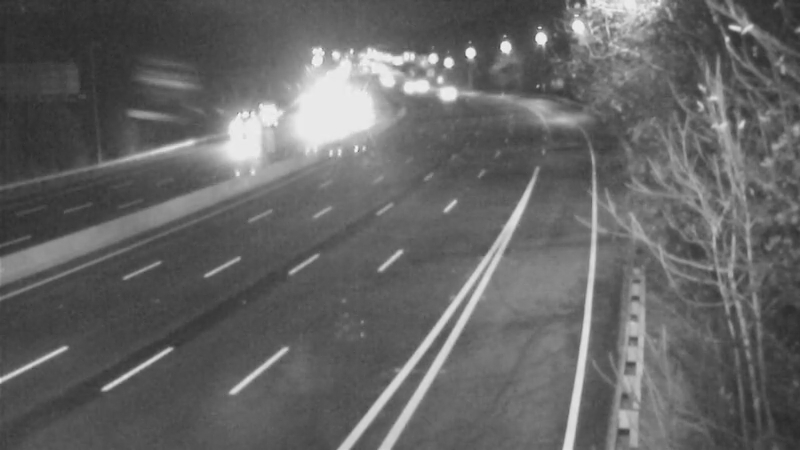vehicle: (417, 67, 467, 117), (218, 104, 268, 154)
